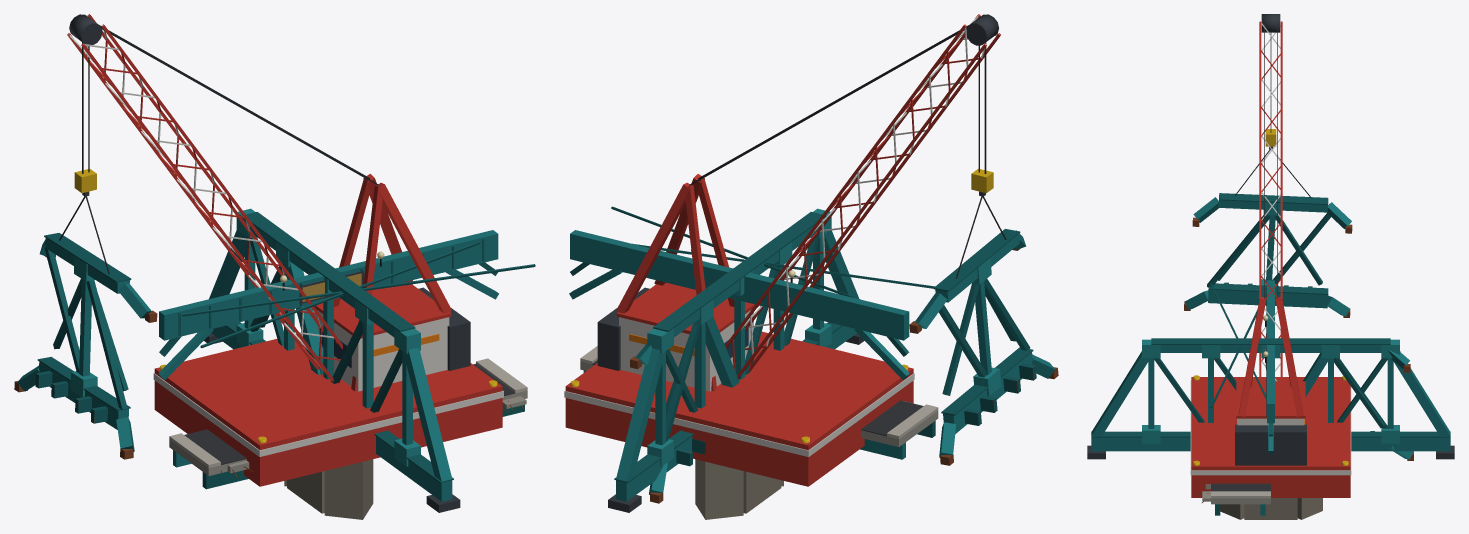
Rendered from canalbridge.glb.
3 views of the same model, side by side, from view 1: azimuth 30°, elevation 25°; view 2: azimuth 150°, elevation 25°; view 3: azimuth 270°, elevation 25° (orthographic). The views are drawn at different scales.
Parts seen in each view (by area): view 1: bridge_crane, bridge_truss, bridge_portal, bridge_deck, bridge_pier, bridge_brace, bridge_stub; view 2: bridge_crane, bridge_truss, bridge_portal, bridge_stub, bridge_pier, bridge_deck, bridge_brace; view 3: bridge_crane, bridge_truss, bridge_stub, bridge_pier, bridge_deck, bridge_brace, bridge_portal.
Part boxes in pixels (<box>): bridge_crane: <box>14,14,503,486</box>; bridge_truss: <box>204,208,460,512</box>; bridge_portal: <box>158,230,498,379</box>; bridge_deck: <box>169,358,527,489</box>; bridge_pier: <box>284,459,373,519</box>; bridge_brace: <box>159,230,535,356</box>; bridge_stub: <box>240,214,323,374</box>; bridge_crane: <box>564,14,1058,486</box>; bridge_truss: <box>608,208,864,512</box>; bridge_portal: <box>569,230,909,379</box>; bridge_stub: <box>630,302,739,503</box>; bridge_pier: <box>695,459,783,519</box>; bridge_deck: <box>580,346,938,459</box>; bridge_brace: <box>570,206,934,356</box>; bridge_crane: <box>1184,14,1352,497</box>; bridge_truss: <box>1087,338,1454,459</box>; bridge_stub: <box>1303,338,1413,460</box>; bridge_pier: <box>1220,498,1322,519</box>; bridge_deck: <box>1196,483,1270,515</box>; bridge_brace: <box>1210,280,1274,436</box>; bridge_portal: <box>1263,280,1274,453</box>.
Bounding box in the file's own units: 28.66 × 33.7 × 27.6.
